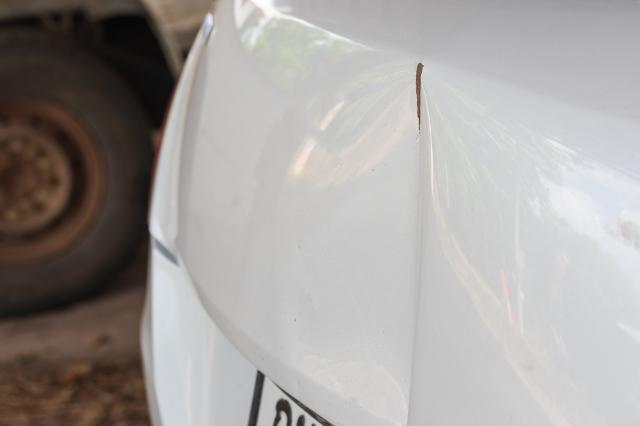dent: (296, 63, 454, 426)
